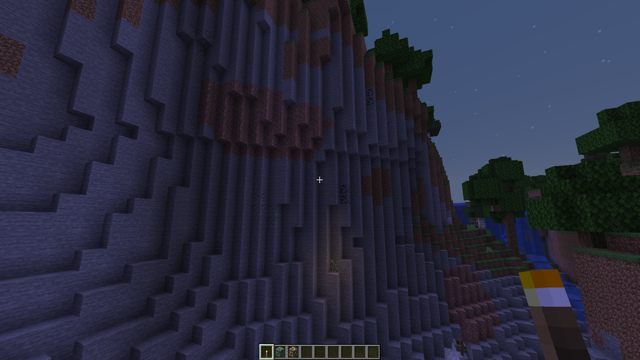coal: (339, 184, 350, 203), (365, 87, 376, 105)
copper: (252, 191, 282, 227)
